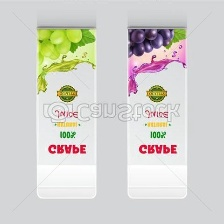carton: (121, 20, 196, 200), (29, 24, 99, 202)
